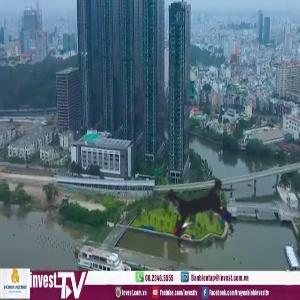drone: (128, 133, 280, 285)
